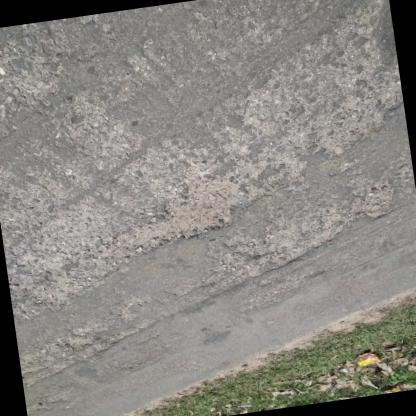pothole: (104, 178, 250, 260), (232, 209, 354, 280), (355, 179, 398, 221)
